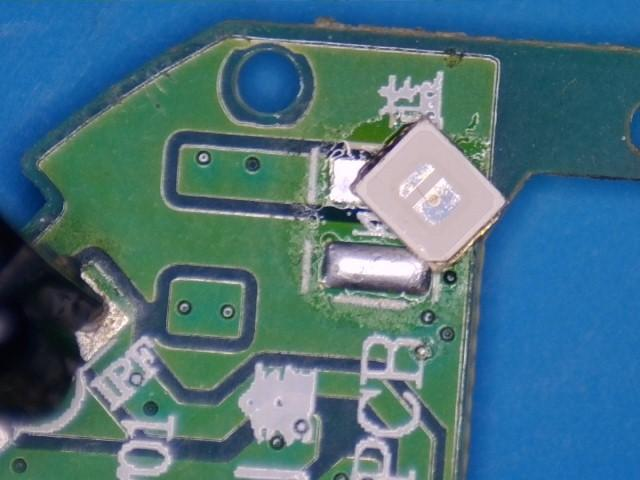pcb_defect: (324, 114, 510, 294)
